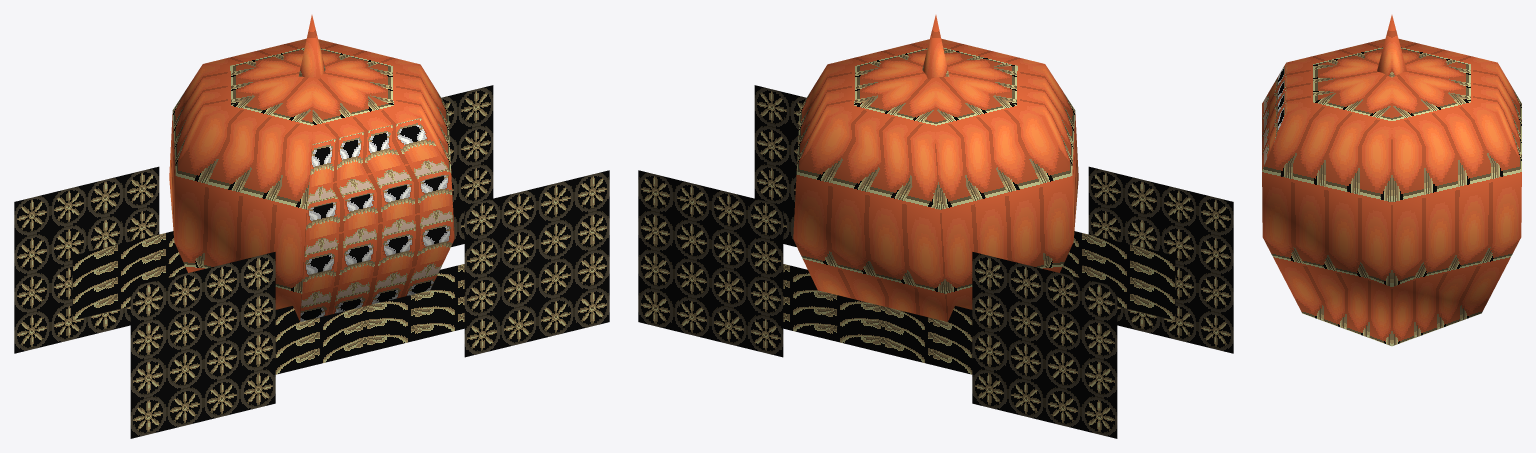
The model's file is 3439IMSY01_01.gltf.
The picture shows the model from 3 angles, left to right: view 1: azimuth 30°, elevation 25°; view 2: azimuth 150°, elevation 25°; view 3: azimuth 270°, elevation 25°; orthographic projection. The views are drawn at different scales.
Parts seen in each view (by area): view 1: 3439IMSY01_01; view 2: 3439IMSY01_01; view 3: 3439IMSY01_01.
Boxes of the visible parts, x1,y1,x2,y2 form: 3439IMSY01_01: (14, 15, 609, 438); 3439IMSY01_01: (638, 15, 1233, 438); 3439IMSY01_01: (1262, 15, 1521, 346).
Size of the model in its own units: 1.9 by 1.23 by 0.9248.
4 materials, 4 textured.
